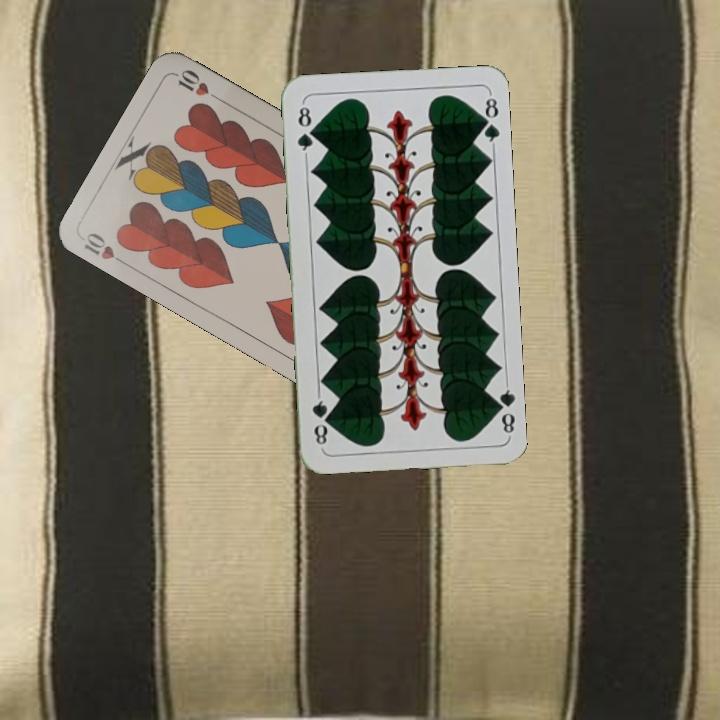G8: (489, 379, 517, 438), (293, 99, 317, 158)
H10: (80, 228, 132, 269)
